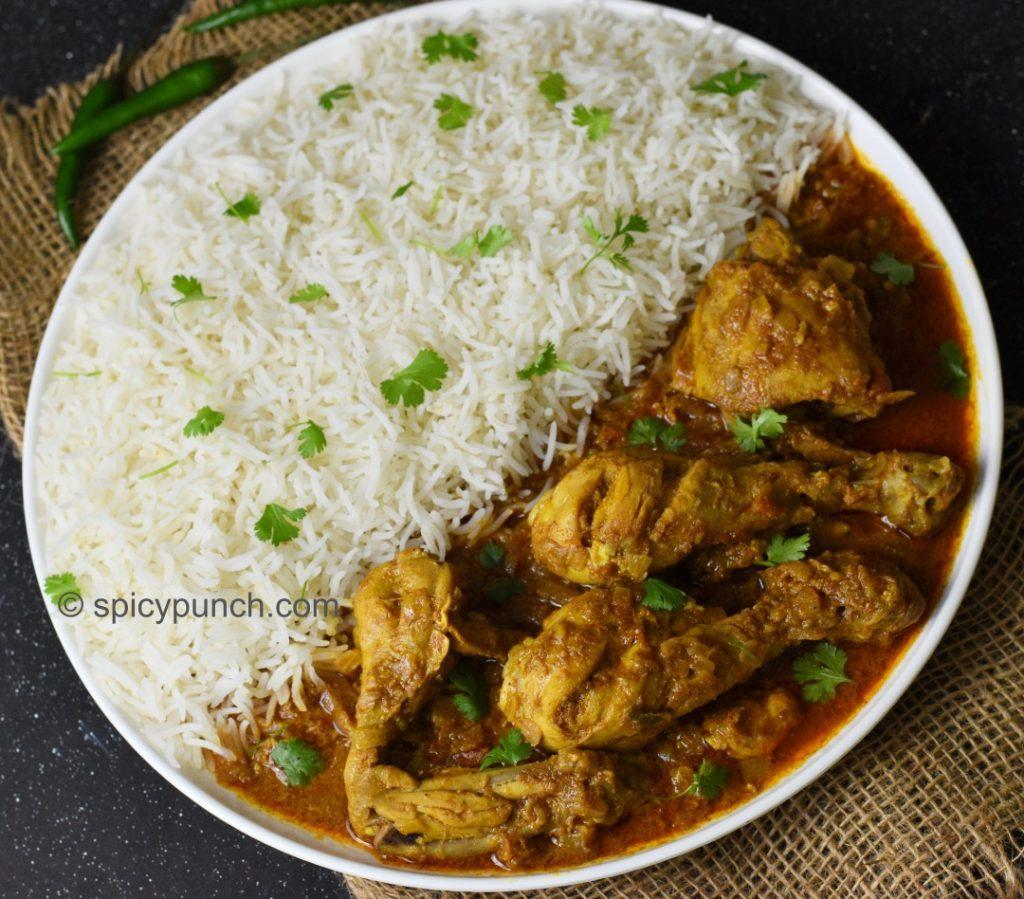chicken: (190, 126, 978, 855)
rice: (42, 29, 830, 737)
